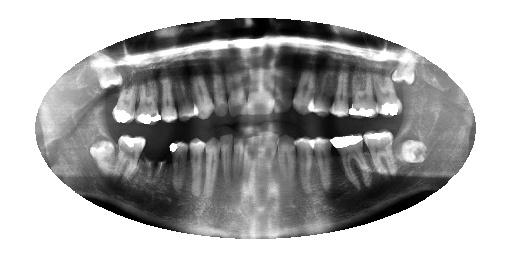i10healthy: (215, 127, 237, 201)
i11healthy: (197, 134, 227, 212)
i12healthy: (181, 135, 210, 204)
i13healthy: (162, 135, 192, 204)
i14chipped: (138, 125, 176, 199)
i15healthy: (112, 127, 149, 199)
i16healthy: (87, 129, 121, 182)
i1healthy: (392, 123, 429, 173)
i2healthy: (357, 122, 400, 184)
i3healthy: (326, 129, 376, 193)
i4healthy: (309, 128, 336, 200)
i5healthy: (287, 132, 320, 202)
i6decay: (275, 124, 306, 208)
i7decay: (253, 123, 282, 205)
i8decay: (238, 127, 266, 205)
i9decay: (226, 127, 248, 203)
u10healthy: (207, 52, 233, 126)
u11healthy: (184, 54, 215, 127)
u12healthy: (167, 55, 202, 129)
u13healthy: (151, 53, 181, 128)
u14healthy: (127, 64, 166, 131)
u15healthy: (110, 68, 140, 133)
u16healthy: (88, 48, 126, 99)
u1healthy: (389, 41, 421, 92)
u2healthy: (370, 63, 405, 124)
u3healthy: (346, 61, 381, 124)
u4healthy: (325, 49, 355, 128)
u5healthy: (305, 60, 337, 121)
u6healthy: (289, 60, 318, 120)
u7decay: (268, 50, 297, 119)
u8decay: (242, 52, 279, 125)
u9decay: (222, 53, 250, 123)
